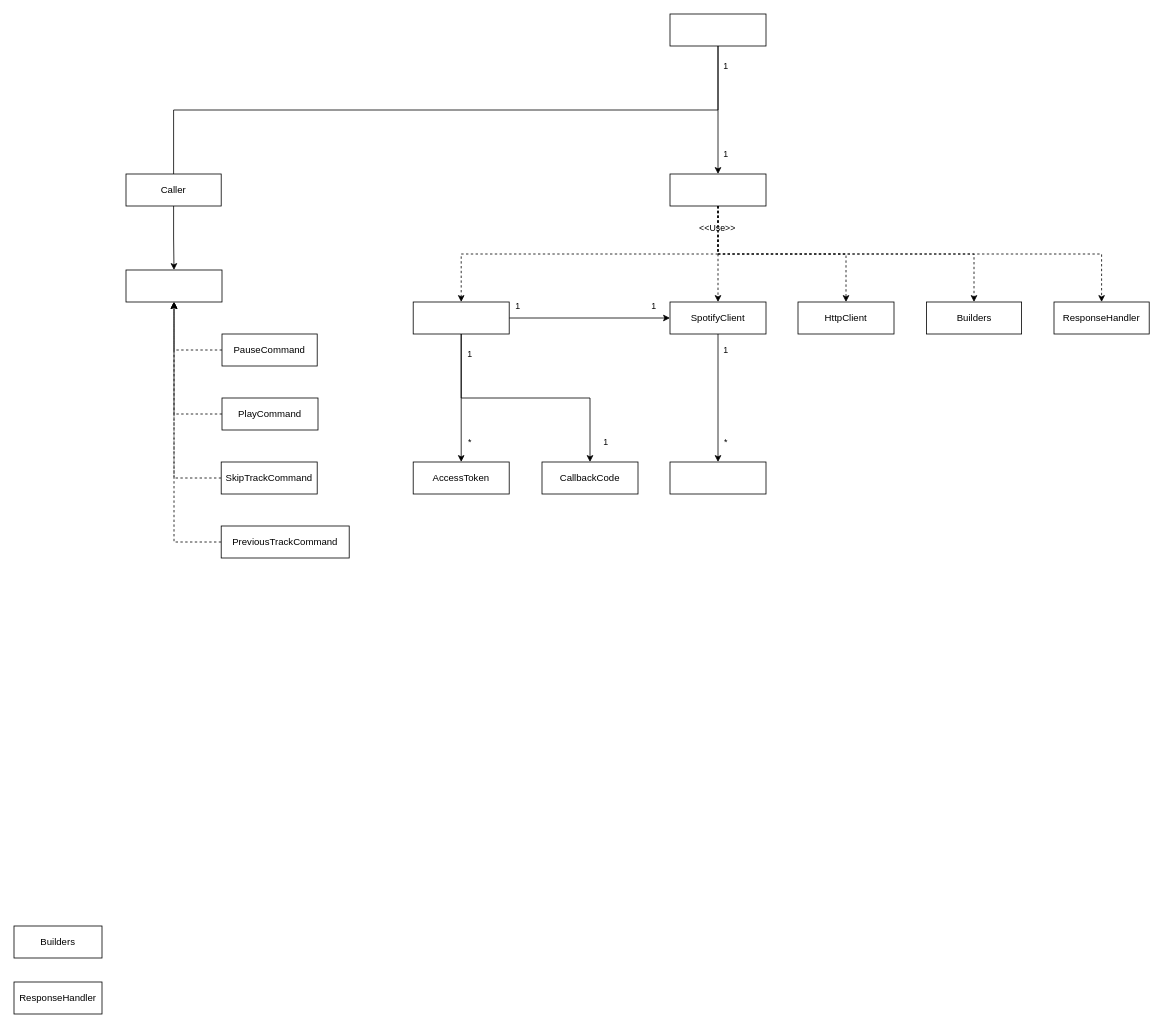
This 1163x1028 diagram has some shape labels left out. Each missing label, with the centre of its shape:
Authenticator: pixel 460 317
Context: pixel 717 189
Device: pixel 717 477
Main: pixel 717 29
«interface» Command: pixel 173 285
